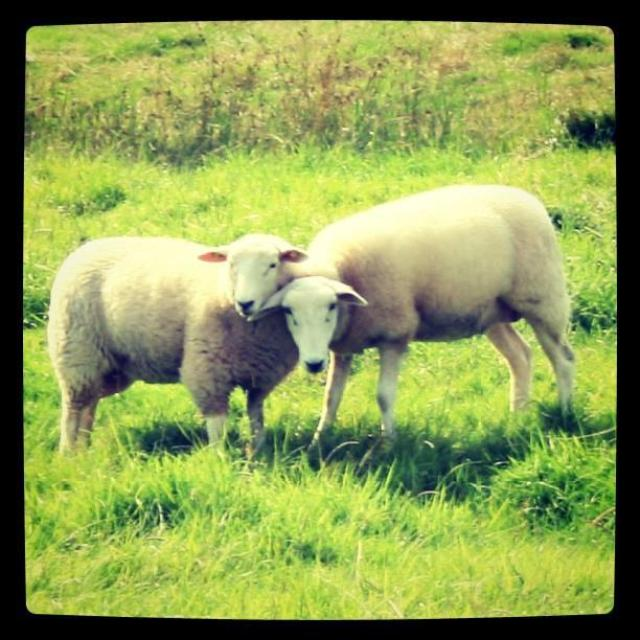Sheep: (246, 185, 576, 453), (48, 230, 311, 458)
